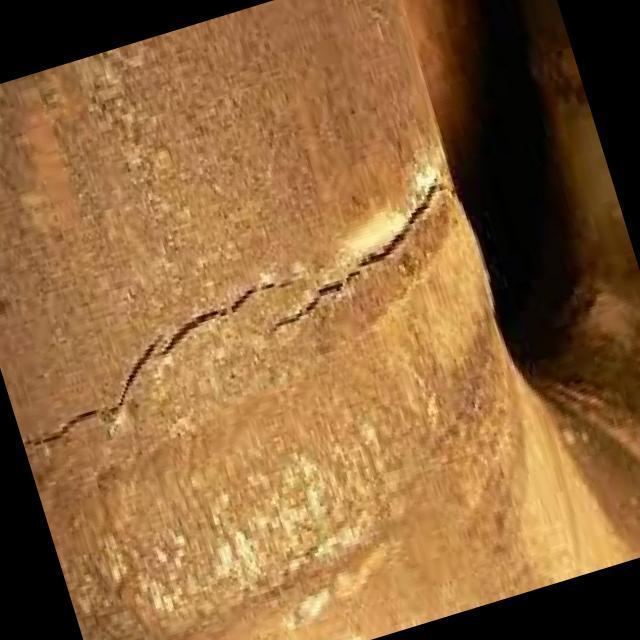defect: (19, 273, 304, 459), (251, 174, 456, 345)
